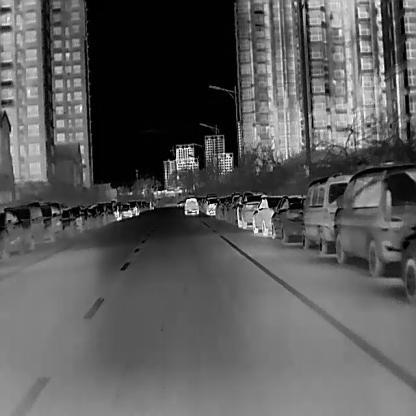car: (333, 161, 415, 276), (299, 173, 354, 255), (4, 200, 43, 249), (269, 193, 305, 243), (232, 190, 266, 229), (0, 209, 25, 261), (252, 194, 282, 236), (38, 200, 62, 243), (61, 202, 83, 237), (225, 193, 241, 224), (183, 194, 198, 215), (203, 195, 217, 215), (127, 199, 138, 215), (119, 202, 131, 216), (176, 199, 184, 207)
